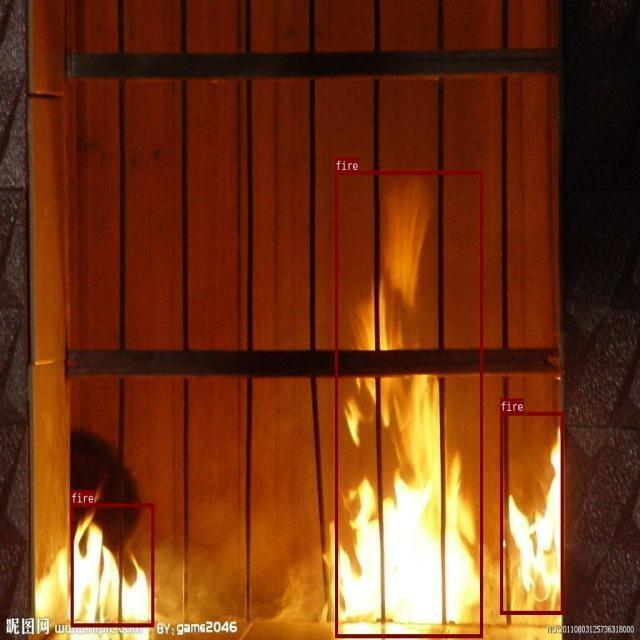fire: (335, 171, 482, 637), (500, 411, 563, 613), (70, 503, 154, 627)
